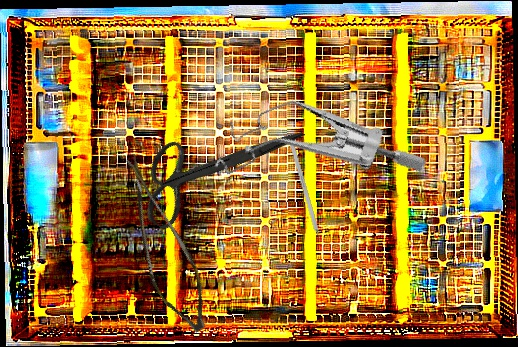Hook Surgical: (286, 133, 326, 254)
Iris Scissors: (122, 70, 307, 267)
Micro Scissor: (87, 153, 235, 339)
Speculum: (199, 59, 429, 241)
